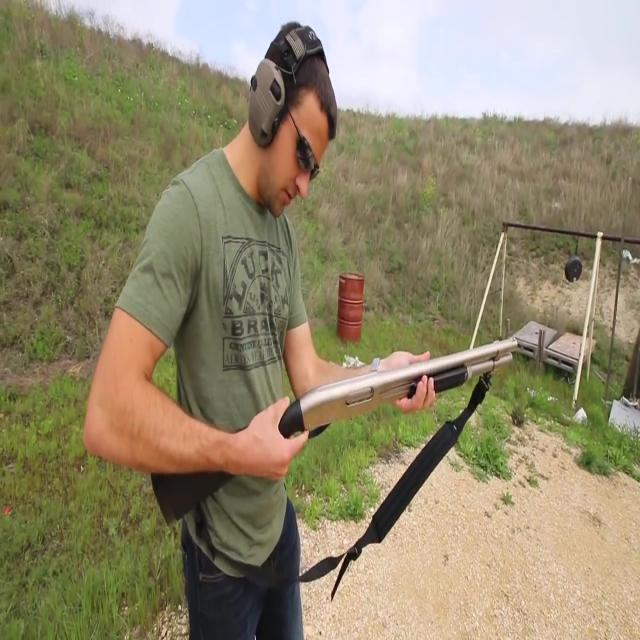Weapon: (142, 330, 532, 532)
